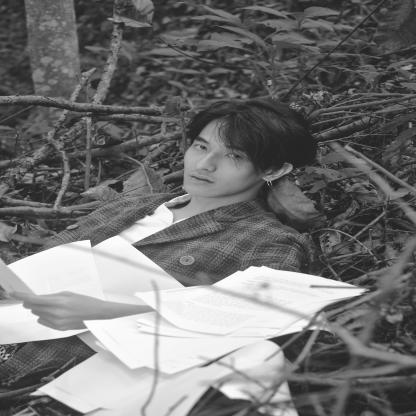Eye: (224, 152, 244, 159), (194, 144, 208, 151)
Mouth: (189, 172, 214, 185)
Nose: (195, 152, 217, 172)
